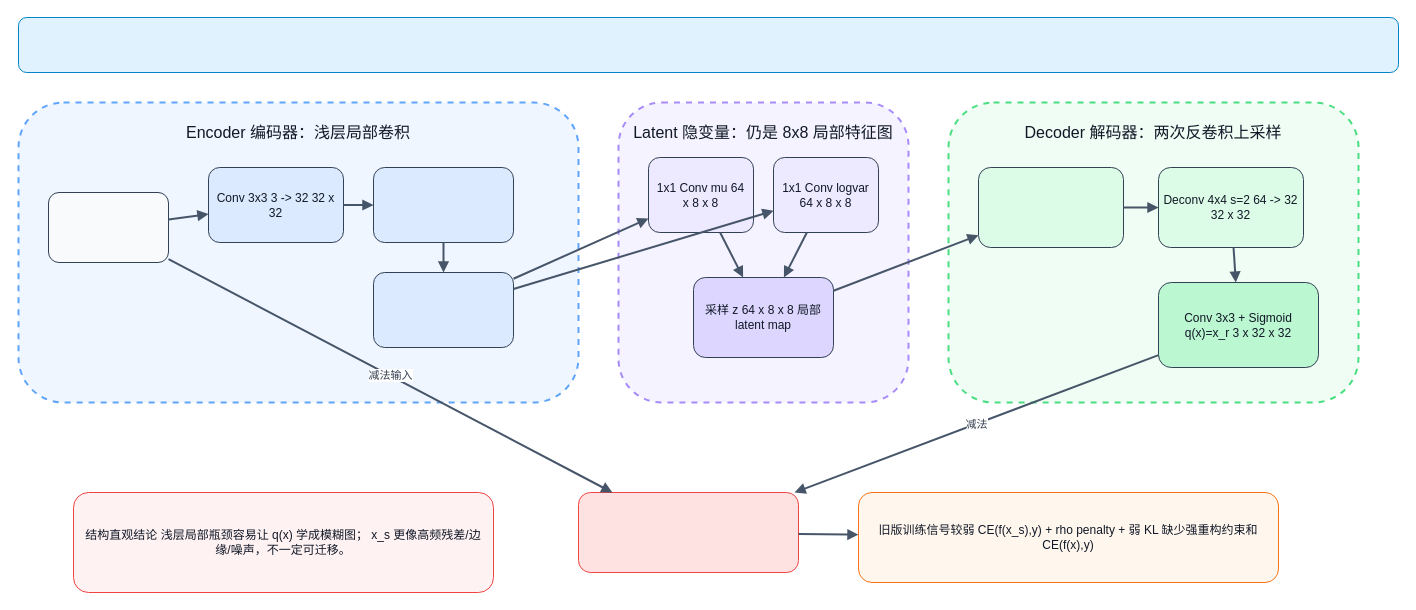
The diagram is 1416 pixels wide and 610 high, and some of its shapes have lost their labels. The box of each missing label's shape, as (x1, y1, x2, y2) in pixels:
Conv 3x3 s=2 32 -> 64 16 x 16: (372, 166, 514, 242)
Conv 3x3 s=2 64 -> 64 8 x 8: (372, 272, 514, 348)
Deconv 4x4 s=2 64 -> 64 16 x 16: (978, 166, 1124, 248)
x_s = x - q(x) 敏感残差: (578, 492, 798, 572)
旧版简化 beta-VAE：主要结构架构图: (18, 16, 1398, 72)
输入 x 3 x 32 x 32: (48, 192, 168, 262)
